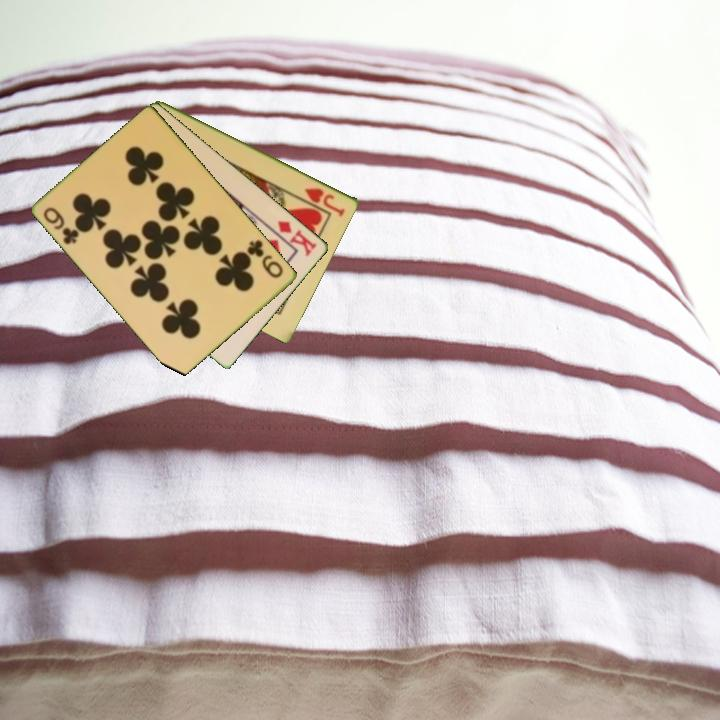9c: (40, 203, 83, 248), (244, 236, 286, 281)
Jh: (301, 184, 348, 219)
Kd: (274, 217, 320, 260)
